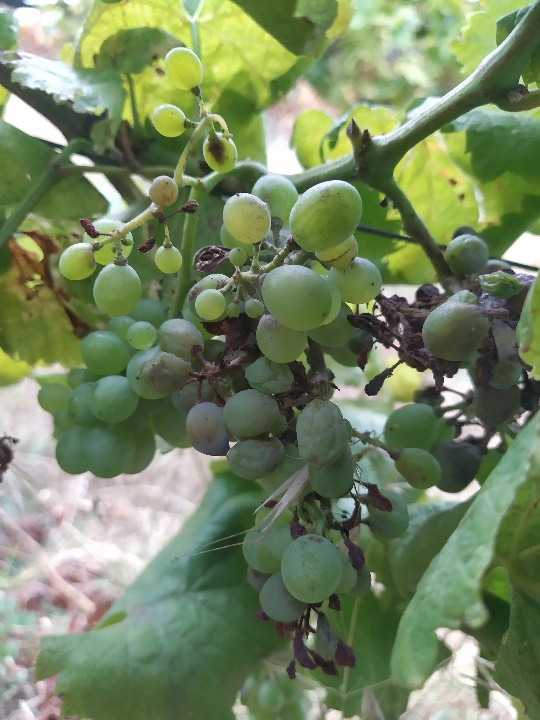grape: (57, 174, 387, 685)
